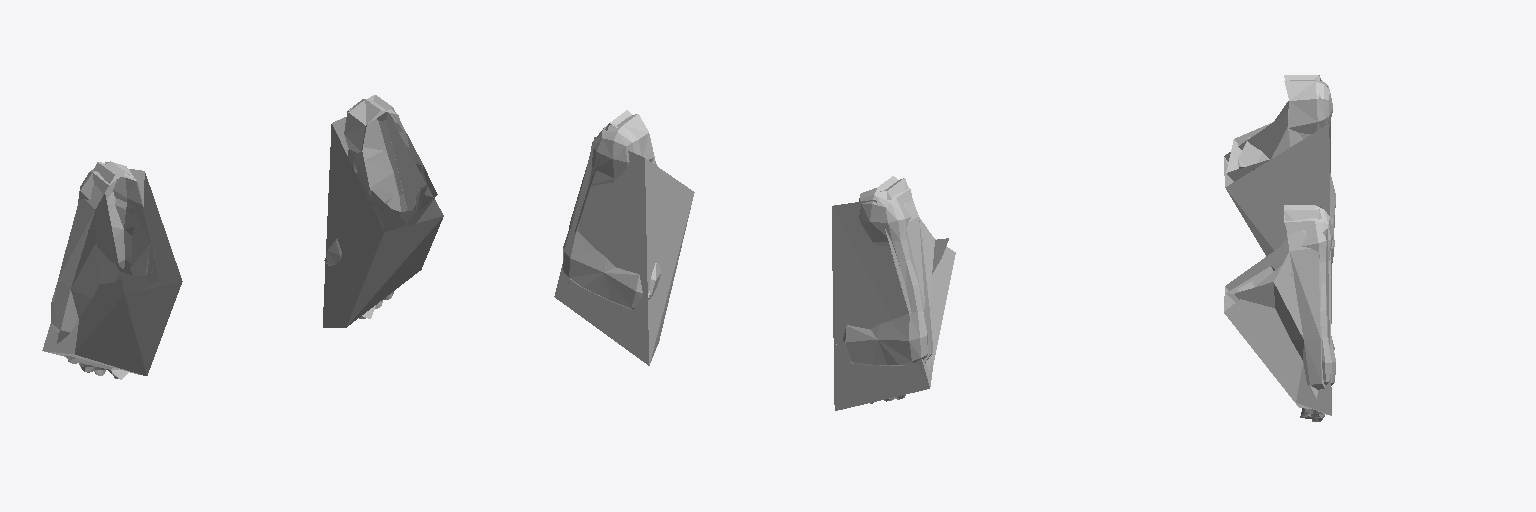
The model's file is feet_000_r.obj.
The picture shows the model from 3 angles: view 1: azimuth 30°, elevation 25°; view 2: azimuth 150°, elevation 25°; view 3: azimuth 270°, elevation 25°; orthographic projection.
Visible parts, largest first — view 1: feet_000_r_low_1, feet_000_r_med_1, feet_000_r_high_1; view 2: feet_000_r_low_1, feet_000_r_high_1, feet_000_r_med_1; view 3: feet_000_r_low_1, feet_000_r_med_1, feet_000_r_high_1.
Part boxes in pixels (left/top/right/bottom): feet_000_r_low_1: left=42, top=112, right=443, bottom=375; feet_000_r_med_1: left=51, top=95, right=437, bottom=379; feet_000_r_high_1: left=51, top=99, right=427, bottom=378; feet_000_r_low_1: left=554, top=137, right=955, bottom=410; feet_000_r_high_1: left=563, top=114, right=927, bottom=401; feet_000_r_med_1: left=568, top=110, right=948, bottom=403; feet_000_r_low_1: left=1224, top=86, right=1331, bottom=415; feet_000_r_med_1: left=1226, top=75, right=1330, bottom=418; feet_000_r_high_1: left=1238, top=80, right=1335, bottom=421.
Size of the model in its own units: 0.4309 by 0.2488 by 0.112.